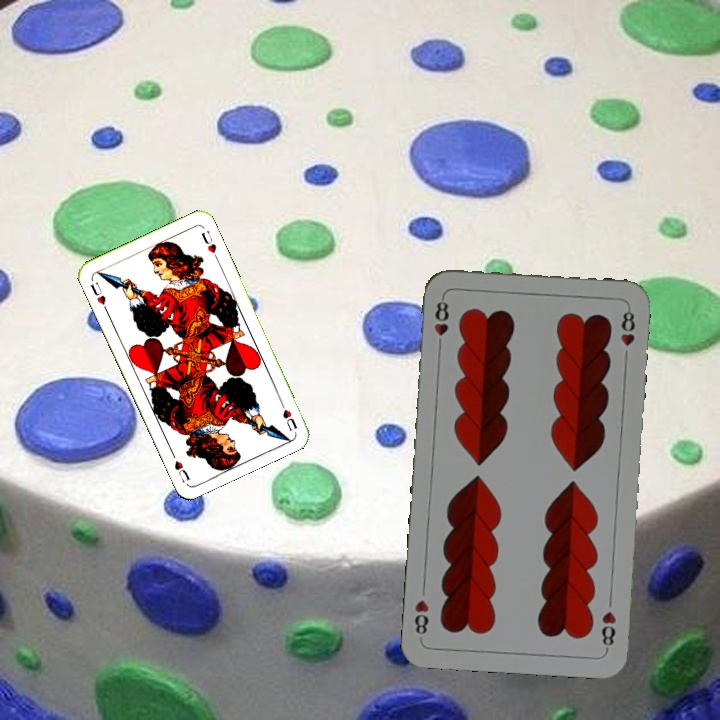H8: (430, 293, 452, 352), (597, 607, 619, 653)
HU: (276, 396, 300, 434), (86, 278, 110, 314)
